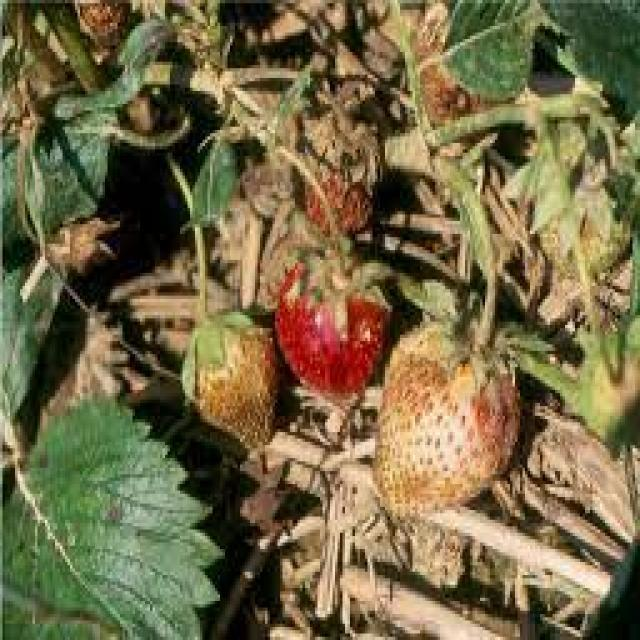Fruta sana: (286, 232, 384, 388)
Podredumbre de cuero: (386, 328, 518, 523), (173, 316, 284, 448), (292, 80, 380, 228)
